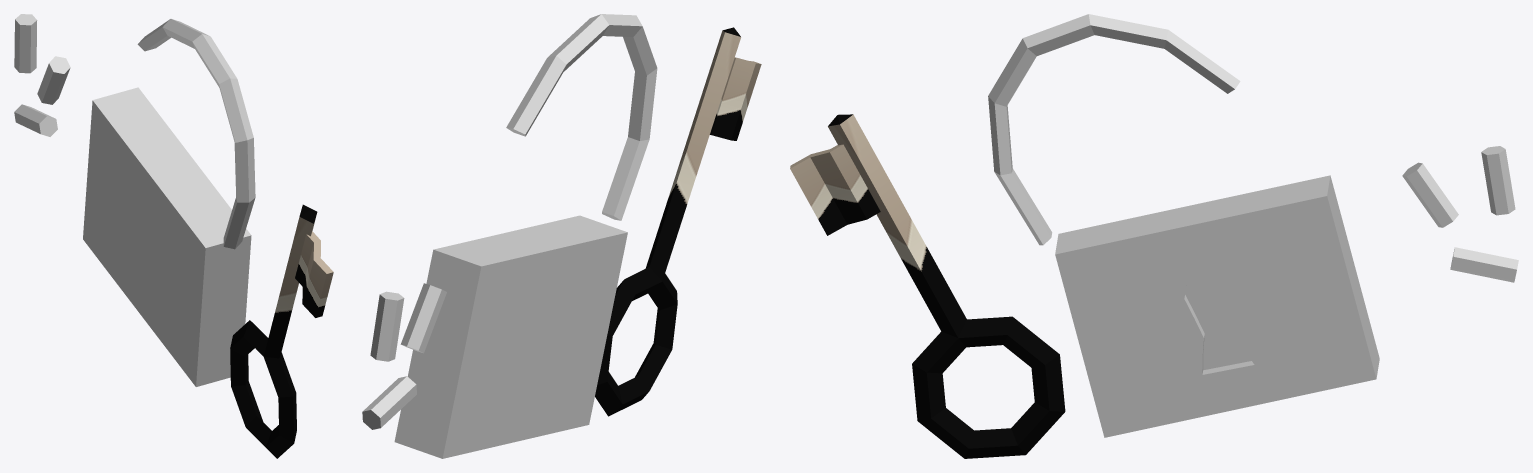
The picture shows the model from 3 angles, left to right: view 1: azimuth 30°, elevation 25°; view 2: azimuth 150°, elevation 25°; view 3: azimuth 270°, elevation 25°; orthographic projection. The views are drawn at different scales.
Parts seen in each view (by area): view 1: zengin; view 2: zengin; view 3: zengin.
Part boxes in pixels (x1=…): zengin: x1=14, y1=14, x2=333, y2=458; zengin: x1=362, y1=14, x2=761, y2=458; zengin: x1=790, y1=14, x2=1518, y2=458.
Bounding box in the file's own units: 0.3612 × 1.94 × 2.96.
Materials: 2 (1 with a texture image).
